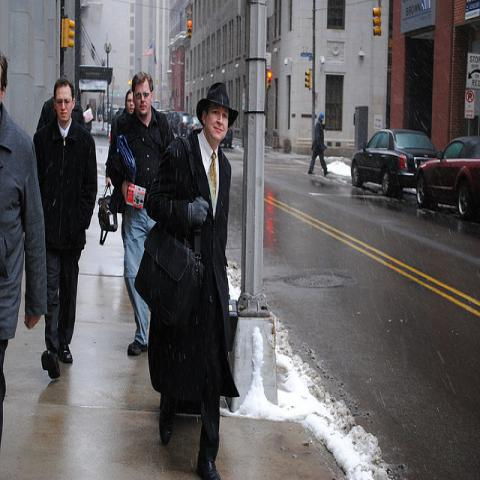car: (415, 132, 479, 216), (352, 131, 435, 192), (170, 111, 189, 133), (184, 116, 202, 136), (177, 115, 191, 136), (219, 128, 233, 147), (109, 107, 119, 122), (116, 107, 125, 120)
